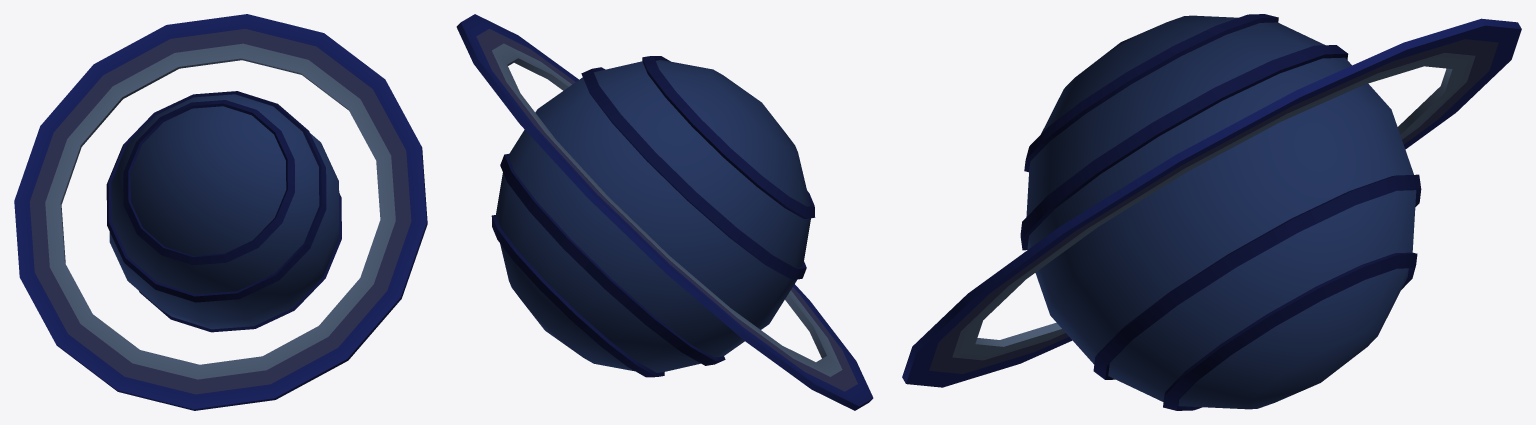
The model's file is Sat.fbx.
The picture shows the model from 3 angles, left to right: view 1: azimuth 30°, elevation 25°; view 2: azimuth 150°, elevation 25°; view 3: azimuth 270°, elevation 25°; orthographic projection. The views are drawn at different scales.
Visible parts, largest first — view 1: Sat; view 2: Sat; view 3: Sat.
Boxes of the visible parts, box(x1,y1,x2,y2) form: Sat: box(14, 14, 427, 410); Sat: box(456, 14, 873, 410); Sat: box(902, 14, 1521, 410).
Size of the model in its own units: 122 by 101 by 124.
